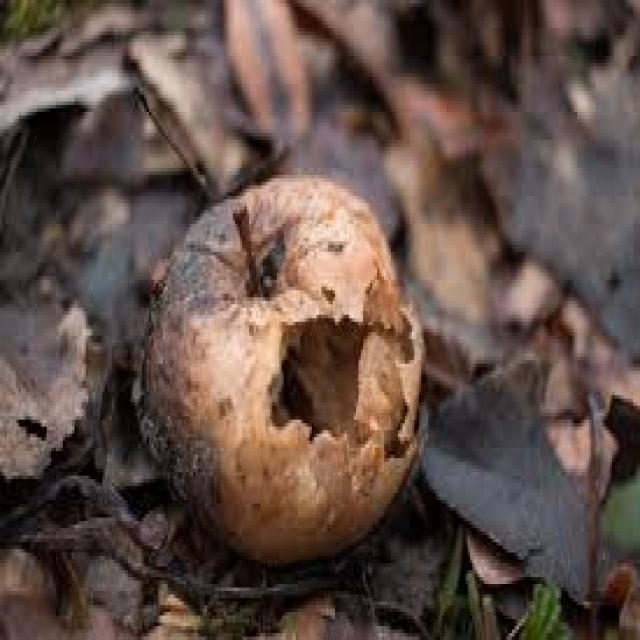organic waste: (130, 164, 426, 563)
